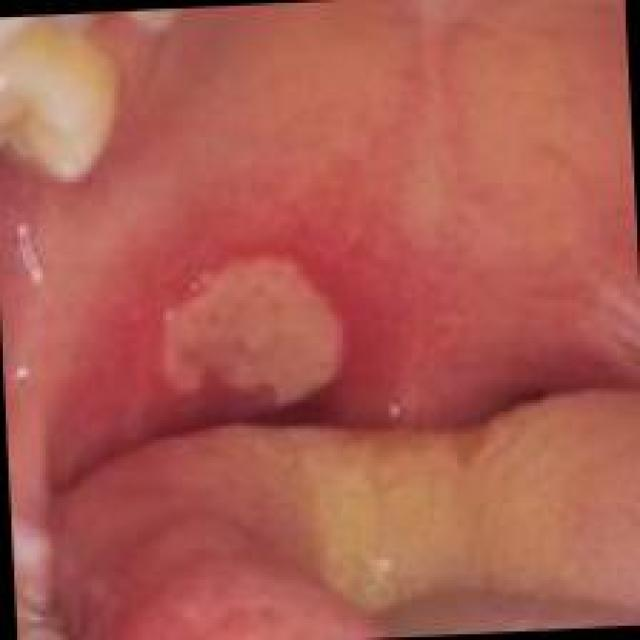processing_area: (3, 6, 637, 637)
ulcer-detection: (132, 223, 384, 453)
